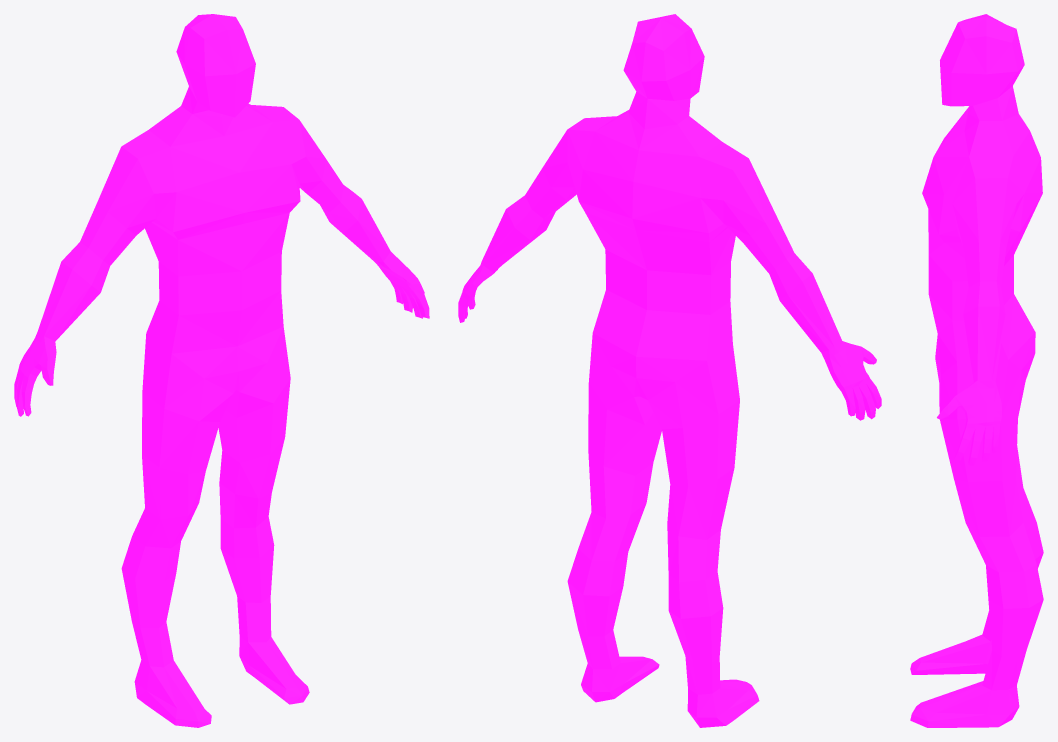
The model's file is human.glb.
3 renders of one model, left to right at view 1: azimuth 30°, elevation 25°; view 2: azimuth 150°, elevation 25°; view 3: azimuth 270°, elevation 25°, orthographic. The views are drawn at different scales.
Visible parts, largest first — view 1: Cube.001_Material_0; view 2: Cube.001_Material_0; view 3: Cube.001_Material_0.
Boxes of the visible parts, box(x1,y1,x2,y2) form: Cube.001_Material_0: box(14, 14, 429, 727); Cube.001_Material_0: box(458, 14, 881, 727); Cube.001_Material_0: box(910, 14, 1043, 727).
Size of the model in its own units: 352 by 557 by 99.44.
